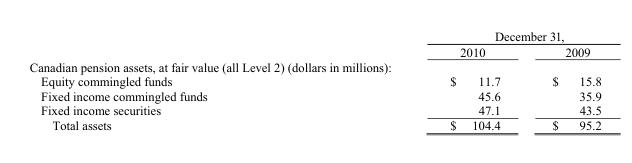table: (28, 28, 600, 132)
table column: (28, 28, 327, 132), (327, 28, 525, 132), (525, 28, 600, 132)
table column header: (28, 28, 600, 58)
table projected row header: (28, 58, 600, 73)
table row: (28, 28, 600, 43), (28, 43, 600, 58), (28, 58, 600, 73), (28, 73, 600, 88), (28, 102, 600, 117), (28, 117, 600, 132), (28, 88, 600, 102)
table spanning cell: (327, 28, 600, 43)
